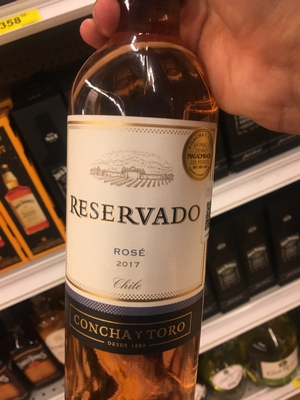reservado rose: (62, 36, 219, 400)
